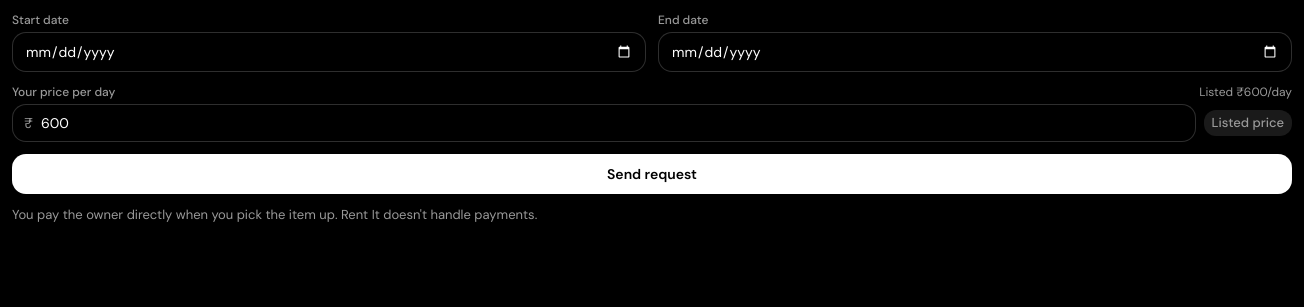
it: OfferForm › shows how far the offer is from the listed price, the total, and the deposit
Clear the number field labelled "Your price per day". click: (604, 123)
box: [12, 104, 1196, 142]
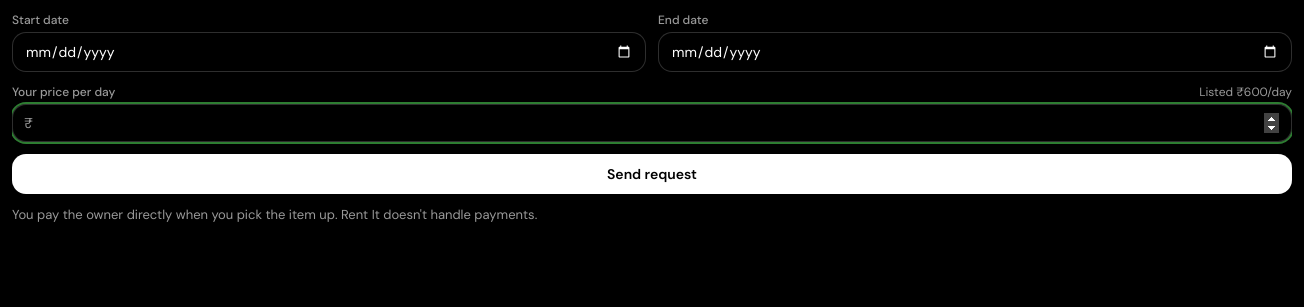
Type "450" into the number field labelled "Your price per day". click: (652, 123)
box: [12, 104, 1292, 142]
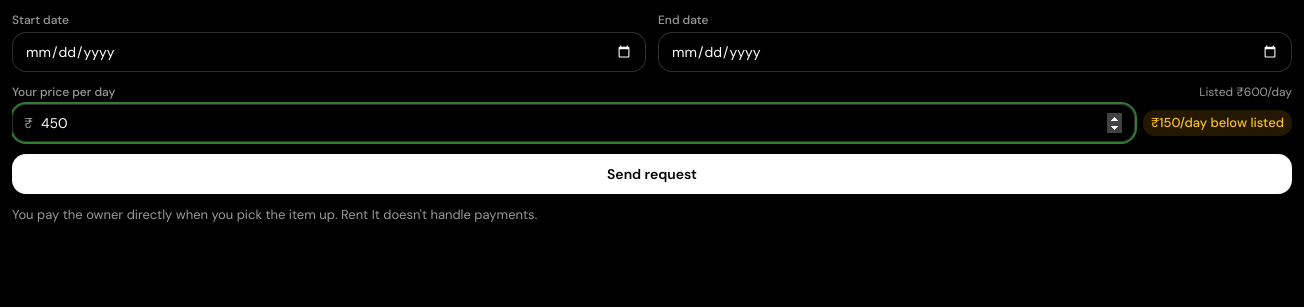
Type "2099-10-12" into the date field below "Start date". click: (329, 52)
box: [12, 32, 646, 72]
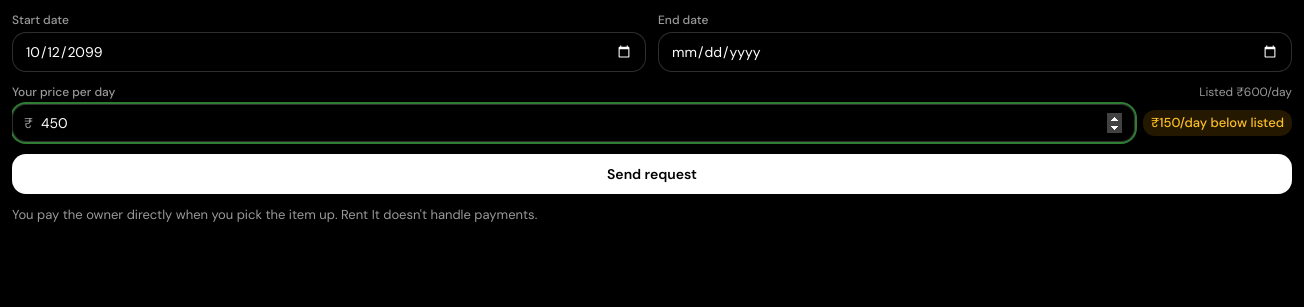
Type "2099-10-15" into the date field below "End date". click: (975, 52)
box: [658, 32, 1292, 72]
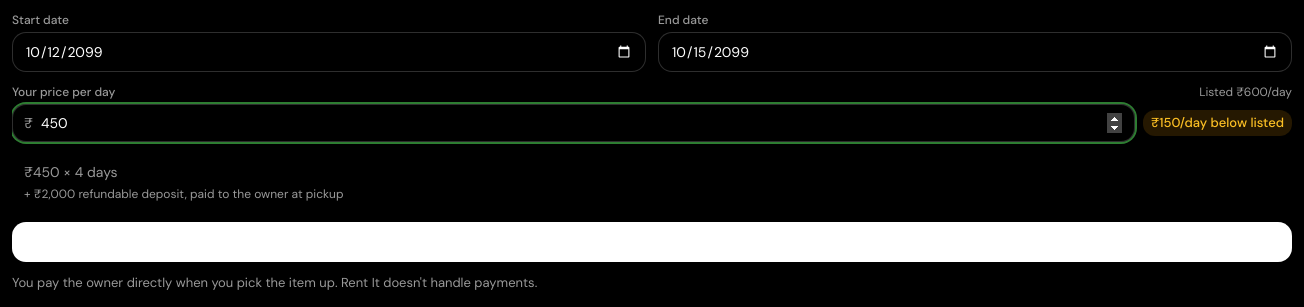
Result: the text "₹150/day below listed" is shown at [1143, 110, 1292, 136]
Result: the text "₹450 × 4 days" is shown at [24, 162, 118, 182]
Result: the text "+ ₹2,000 refundable deposit, paid to the owner at pickup" is shown at [24, 186, 344, 202]
